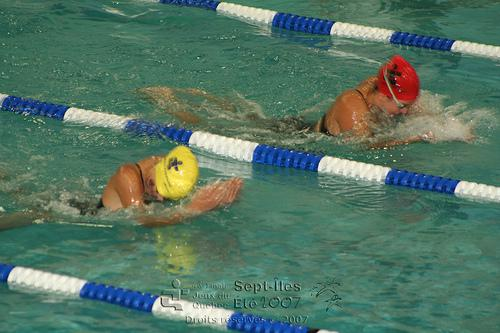swimmer: (78, 146, 242, 225), (309, 56, 421, 152)
